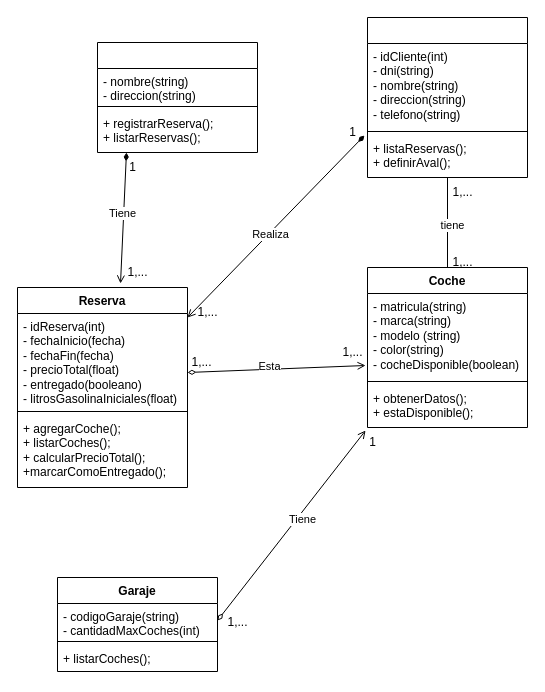
Some shapes in this 545 by 692 pixel diagram are drawn without their labels. The box of each missing label's shape, as (x1, y1, x2, y2) in pixels:
Agencias: (96, 42, 258, 152)
Clientes: (366, 16, 528, 178)
